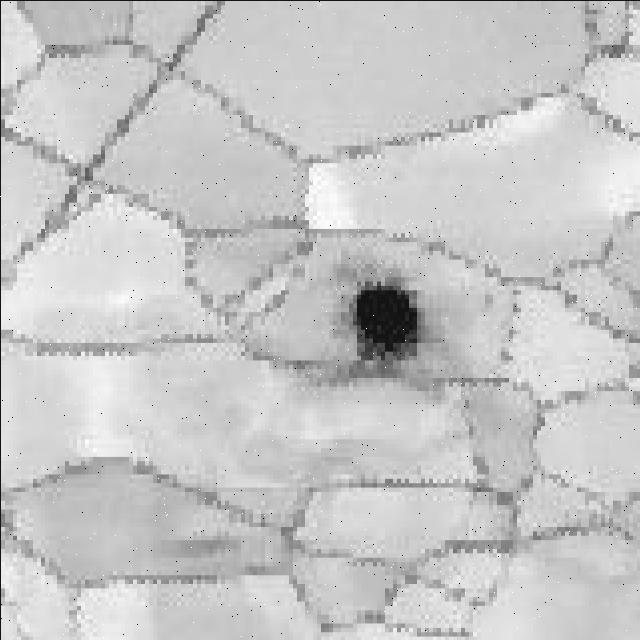good_void: (331, 268, 438, 370)
